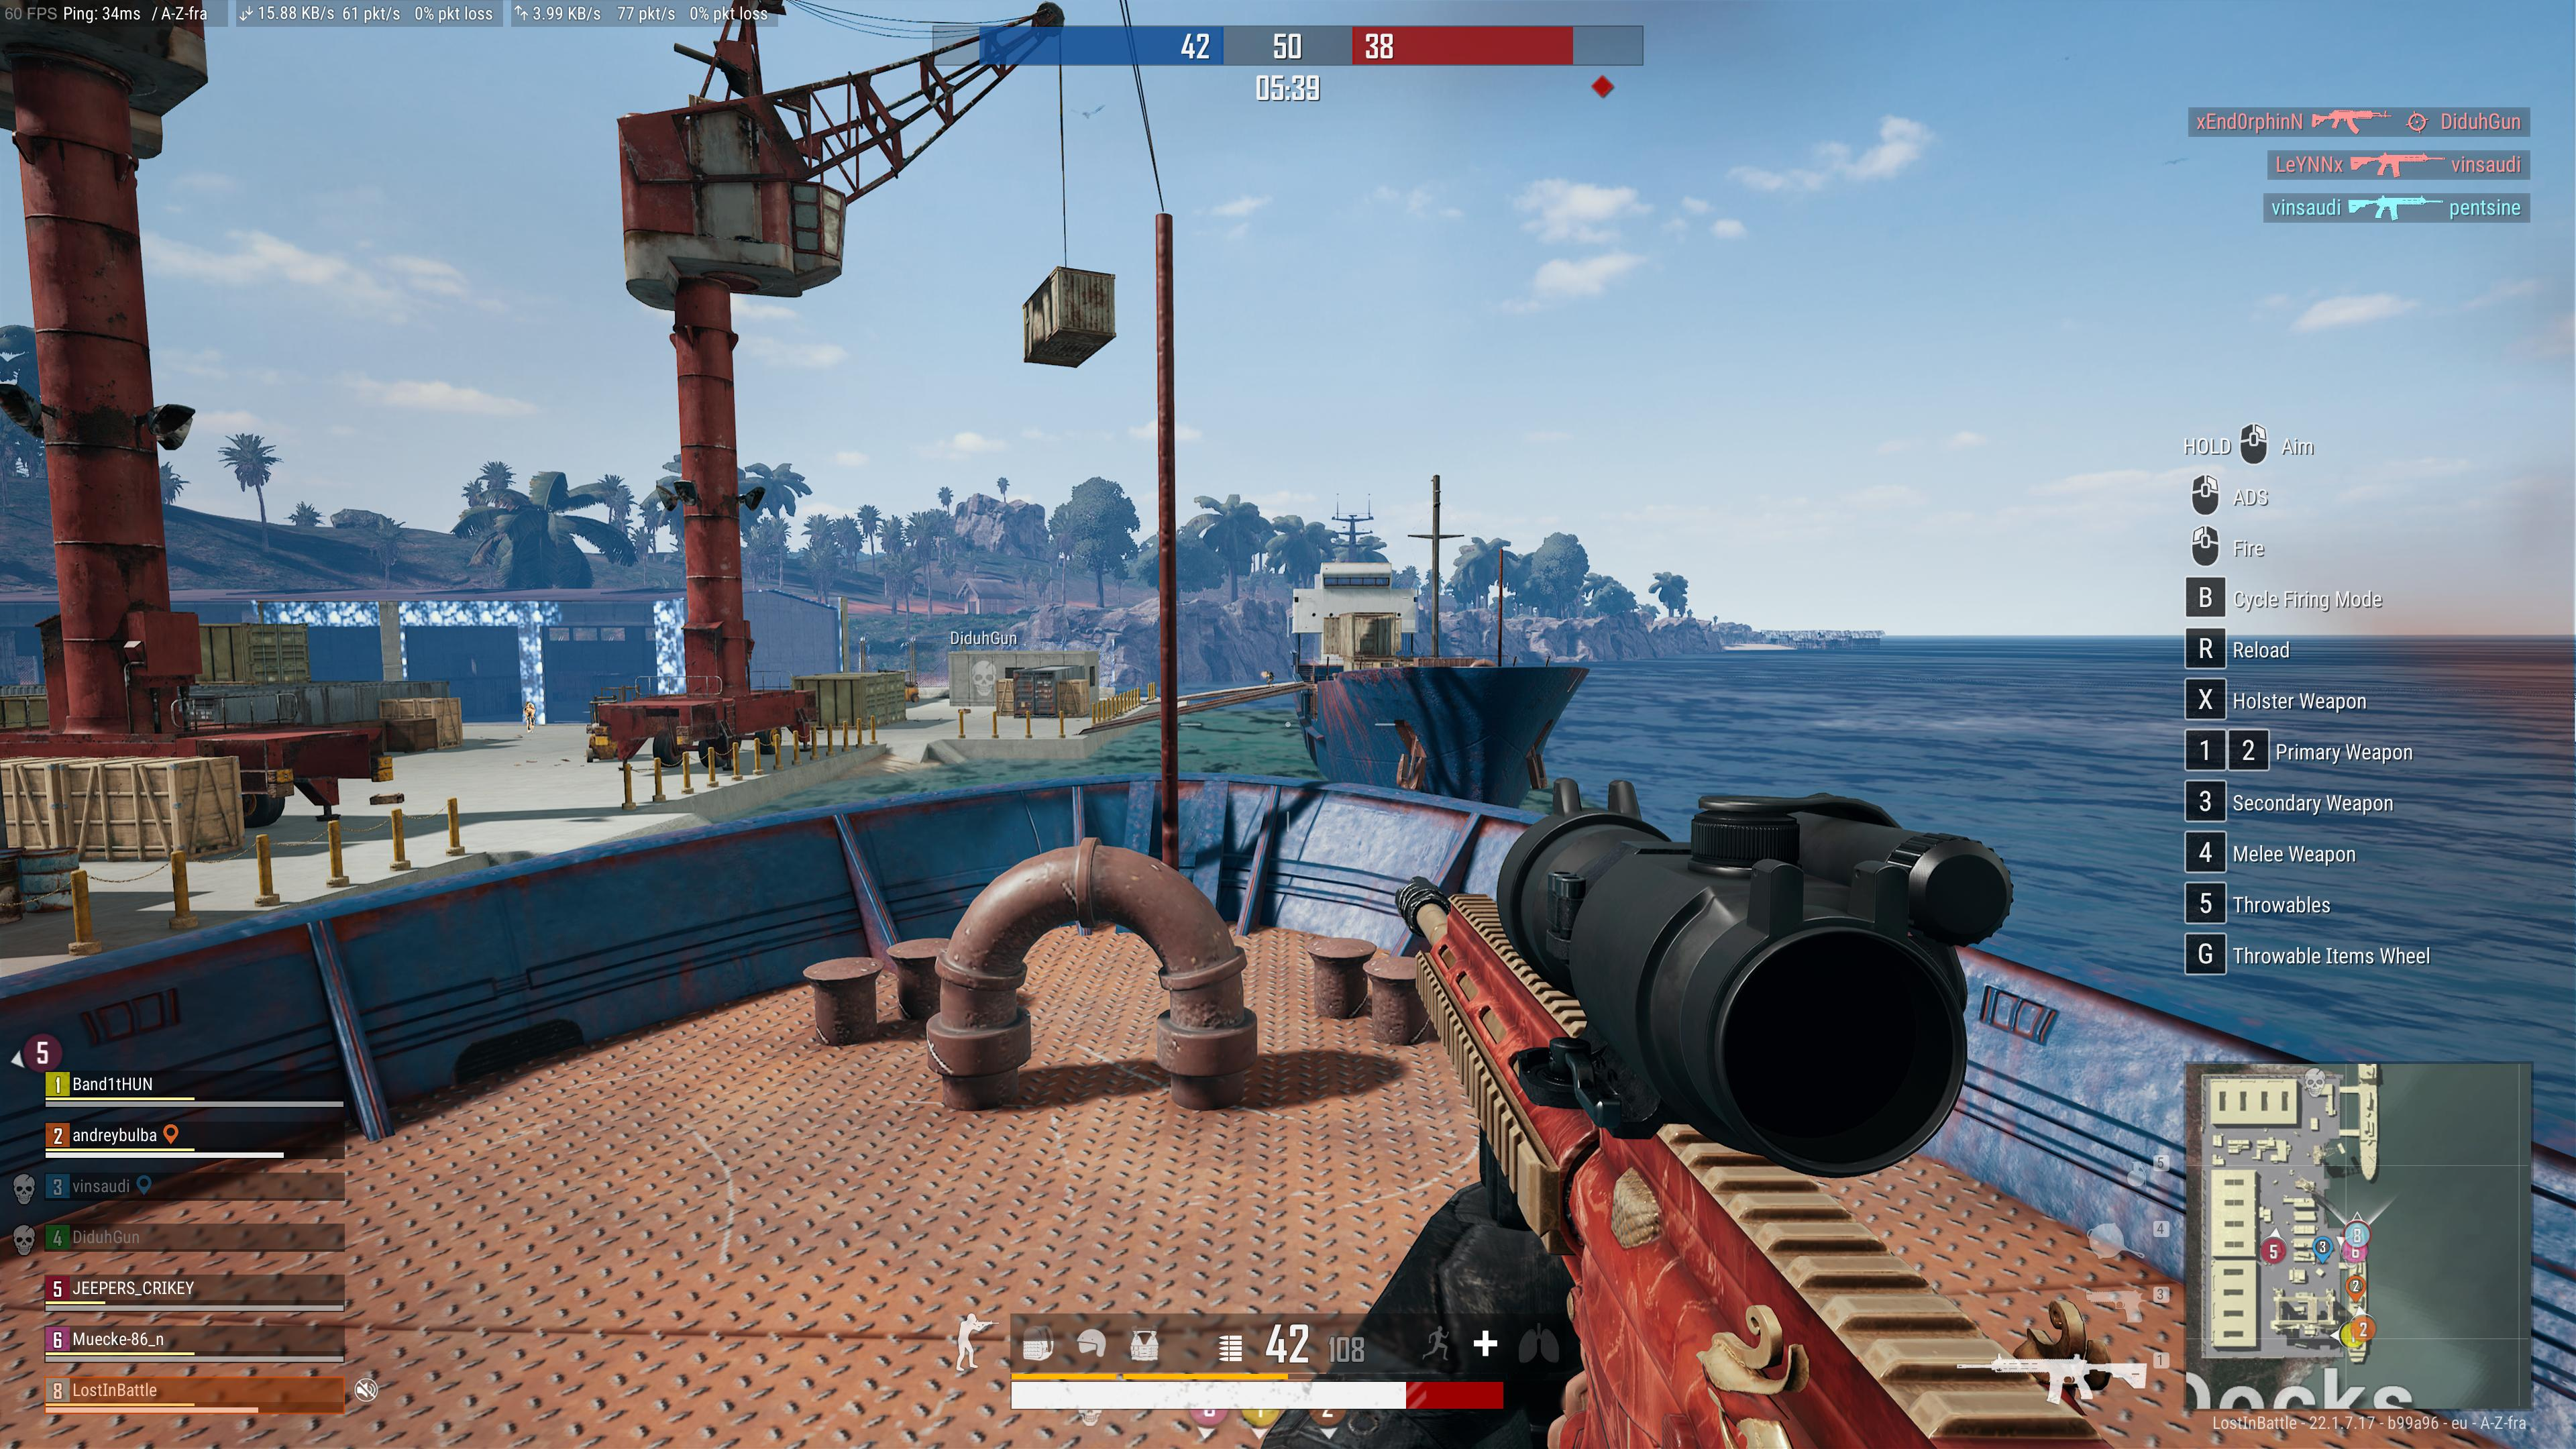enemy: (522, 701, 536, 732), (1260, 669, 1274, 686)
